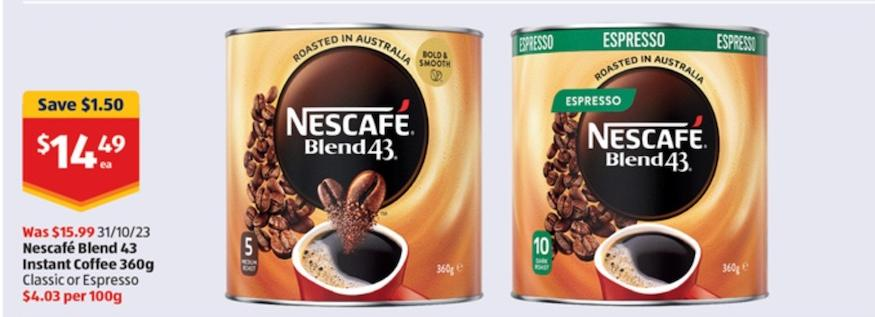description_block: (17, 239, 160, 287)
price_main: (18, 116, 147, 211)
product_image_block: (212, 17, 779, 306)
promo_text_block: (23, 84, 140, 119)
unit_price_block: (18, 287, 128, 309)
